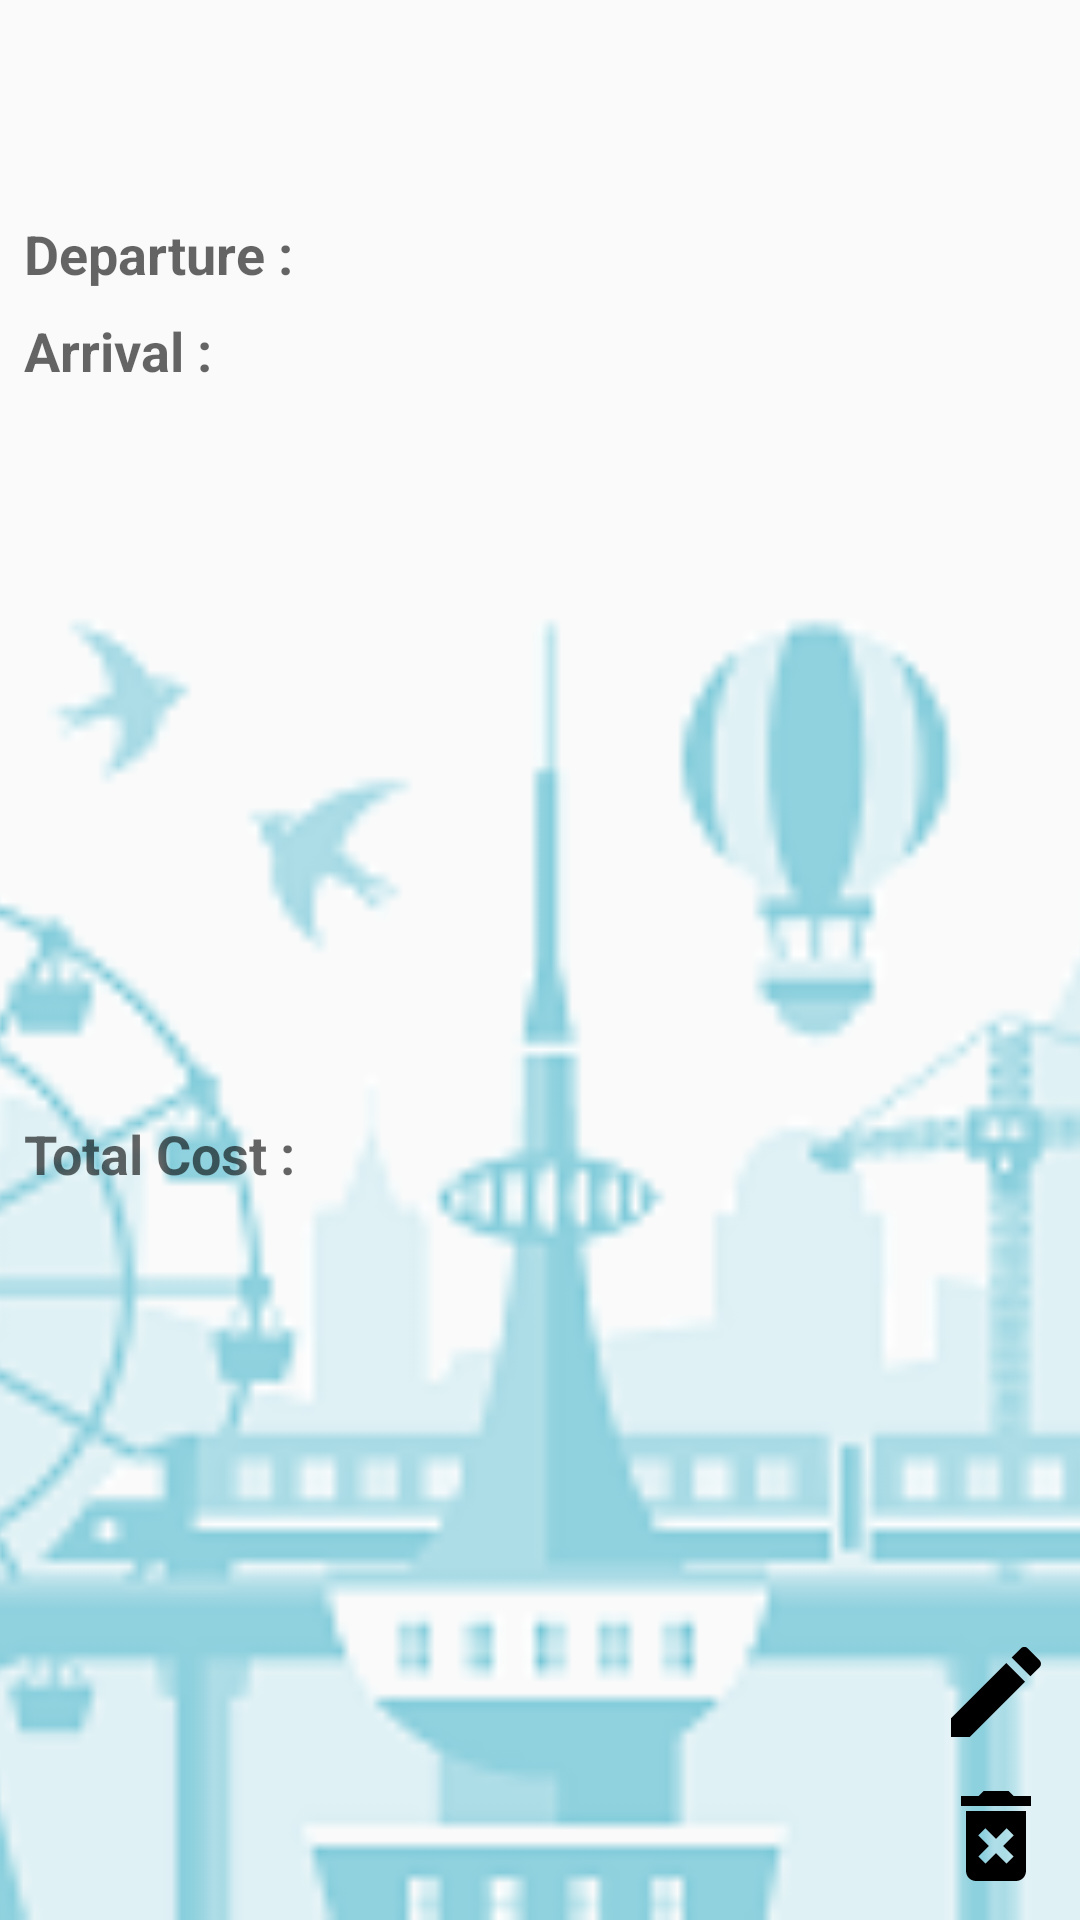

Where to tap for icons on this 1080x1920 app screen, as (x,y):
Delete: (994,1836)
Edit: (996,1692)
